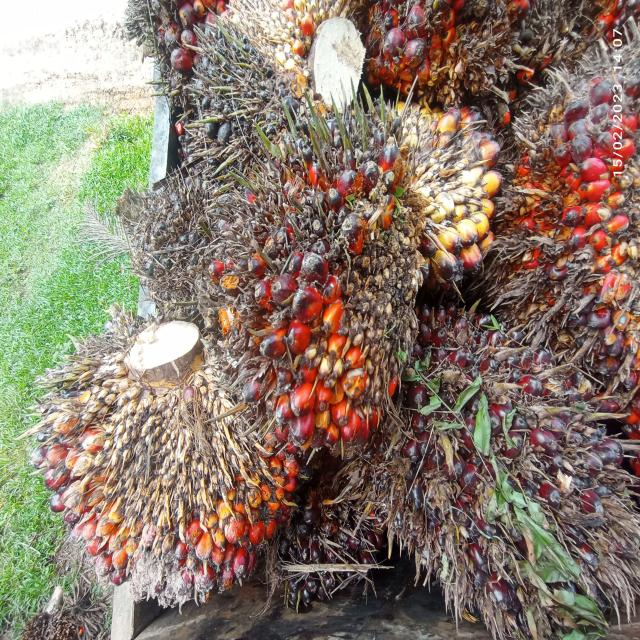fraksi 1: (368, 301, 624, 628), (25, 323, 311, 610)
fraksi 3: (205, 94, 425, 476)
